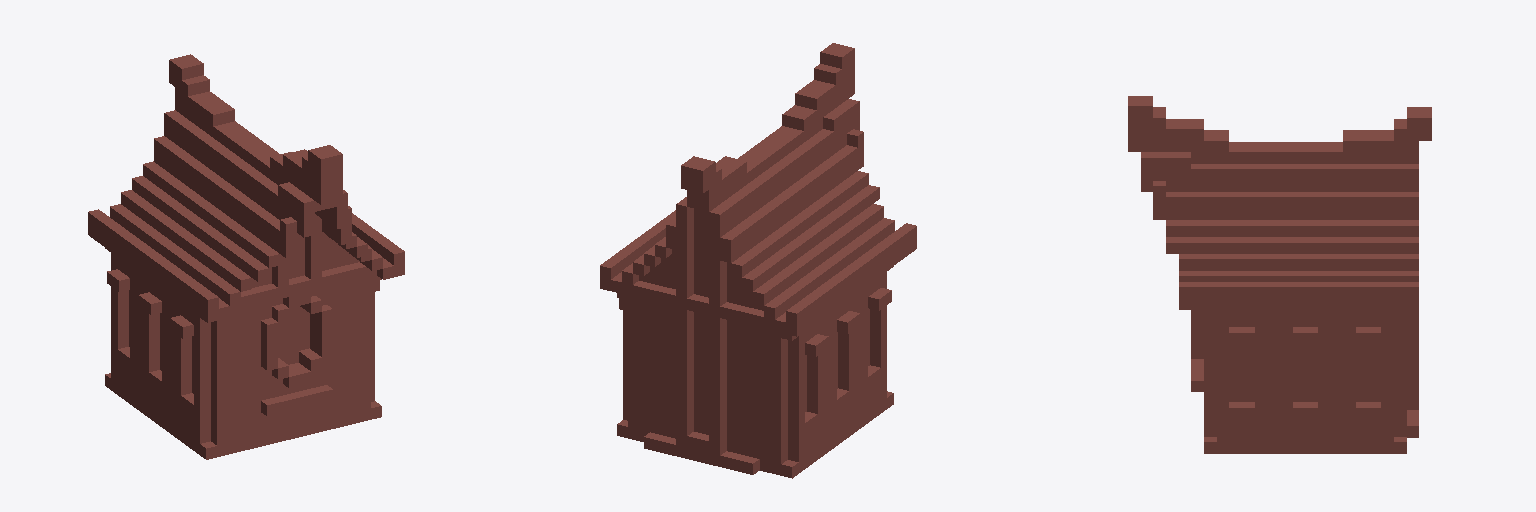
The model's file is RoofTopLayer 1.obj.
3 views of the same model, side by side, from view 1: azimuth 30°, elevation 25°; view 2: azimuth 150°, elevation 25°; view 3: azimuth 270°, elevation 25° (orthographic).
Visible parts, largest first — view 1: RoofTopLayer 1; view 2: RoofTopLayer 1; view 3: RoofTopLayer 1.
Boxes of the visible parts, box(x1,y1,x2,y2) form: RoofTopLayer 1: box(88, 54, 404, 459); RoofTopLayer 1: box(600, 43, 916, 478); RoofTopLayer 1: box(1128, 96, 1431, 453).
Size of the model in its own units: 1.12 by 1.69 by 1.5.